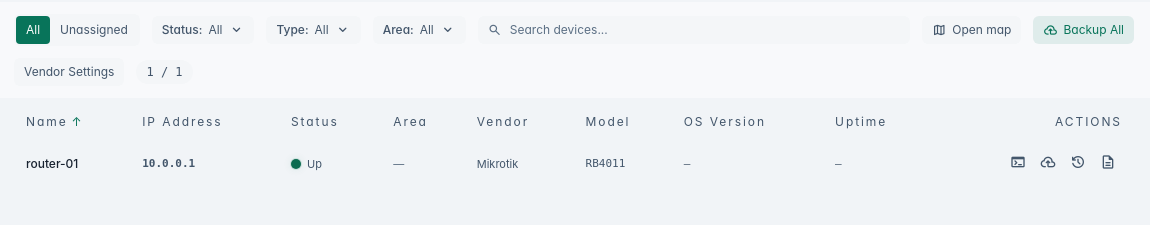
Test: Dashboard › shows no-filter-matches message when filters exclude all devices
// Type in search to filter out all devices
Type "nonexistent-device-xyz" into the field with placeholder "Search devices..." at coordinates (694, 30), box [478, 16, 910, 44]
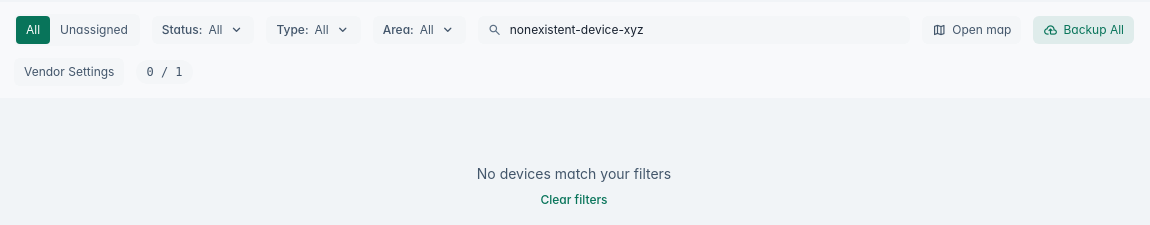
expect the text "No devices match your filters" is shown: met, box [477, 164, 671, 184]
expect the button "Clear filters" is shown: met, box [540, 192, 608, 208]
